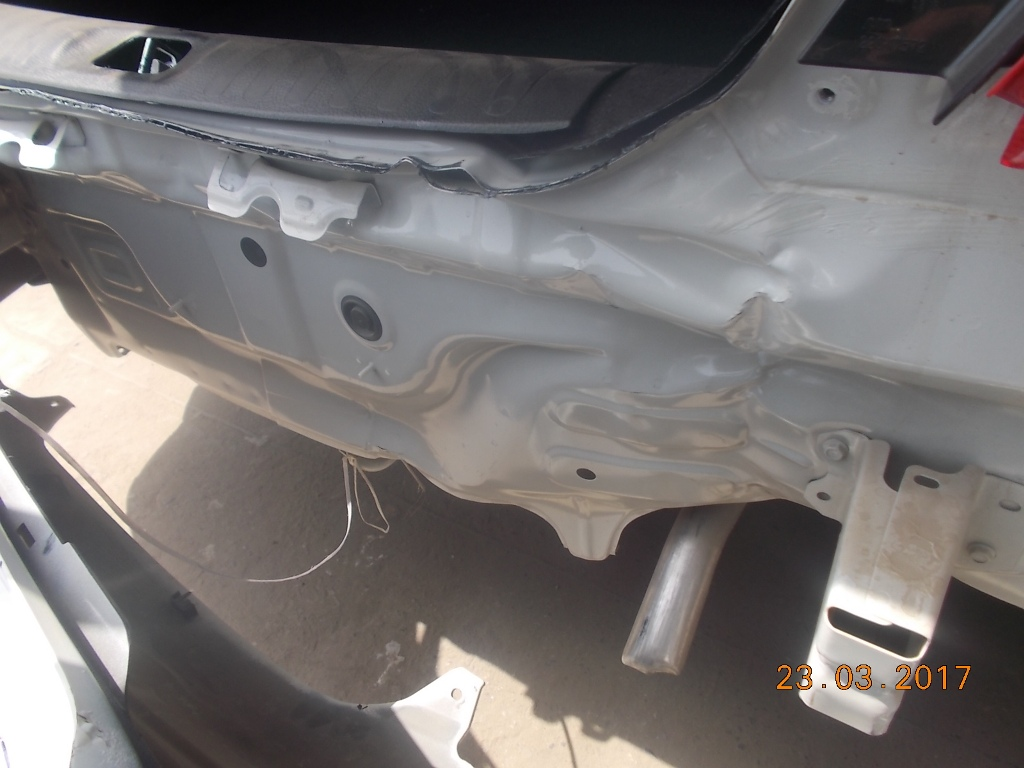Large_tear_or_damage: (27, 72, 1023, 623)
